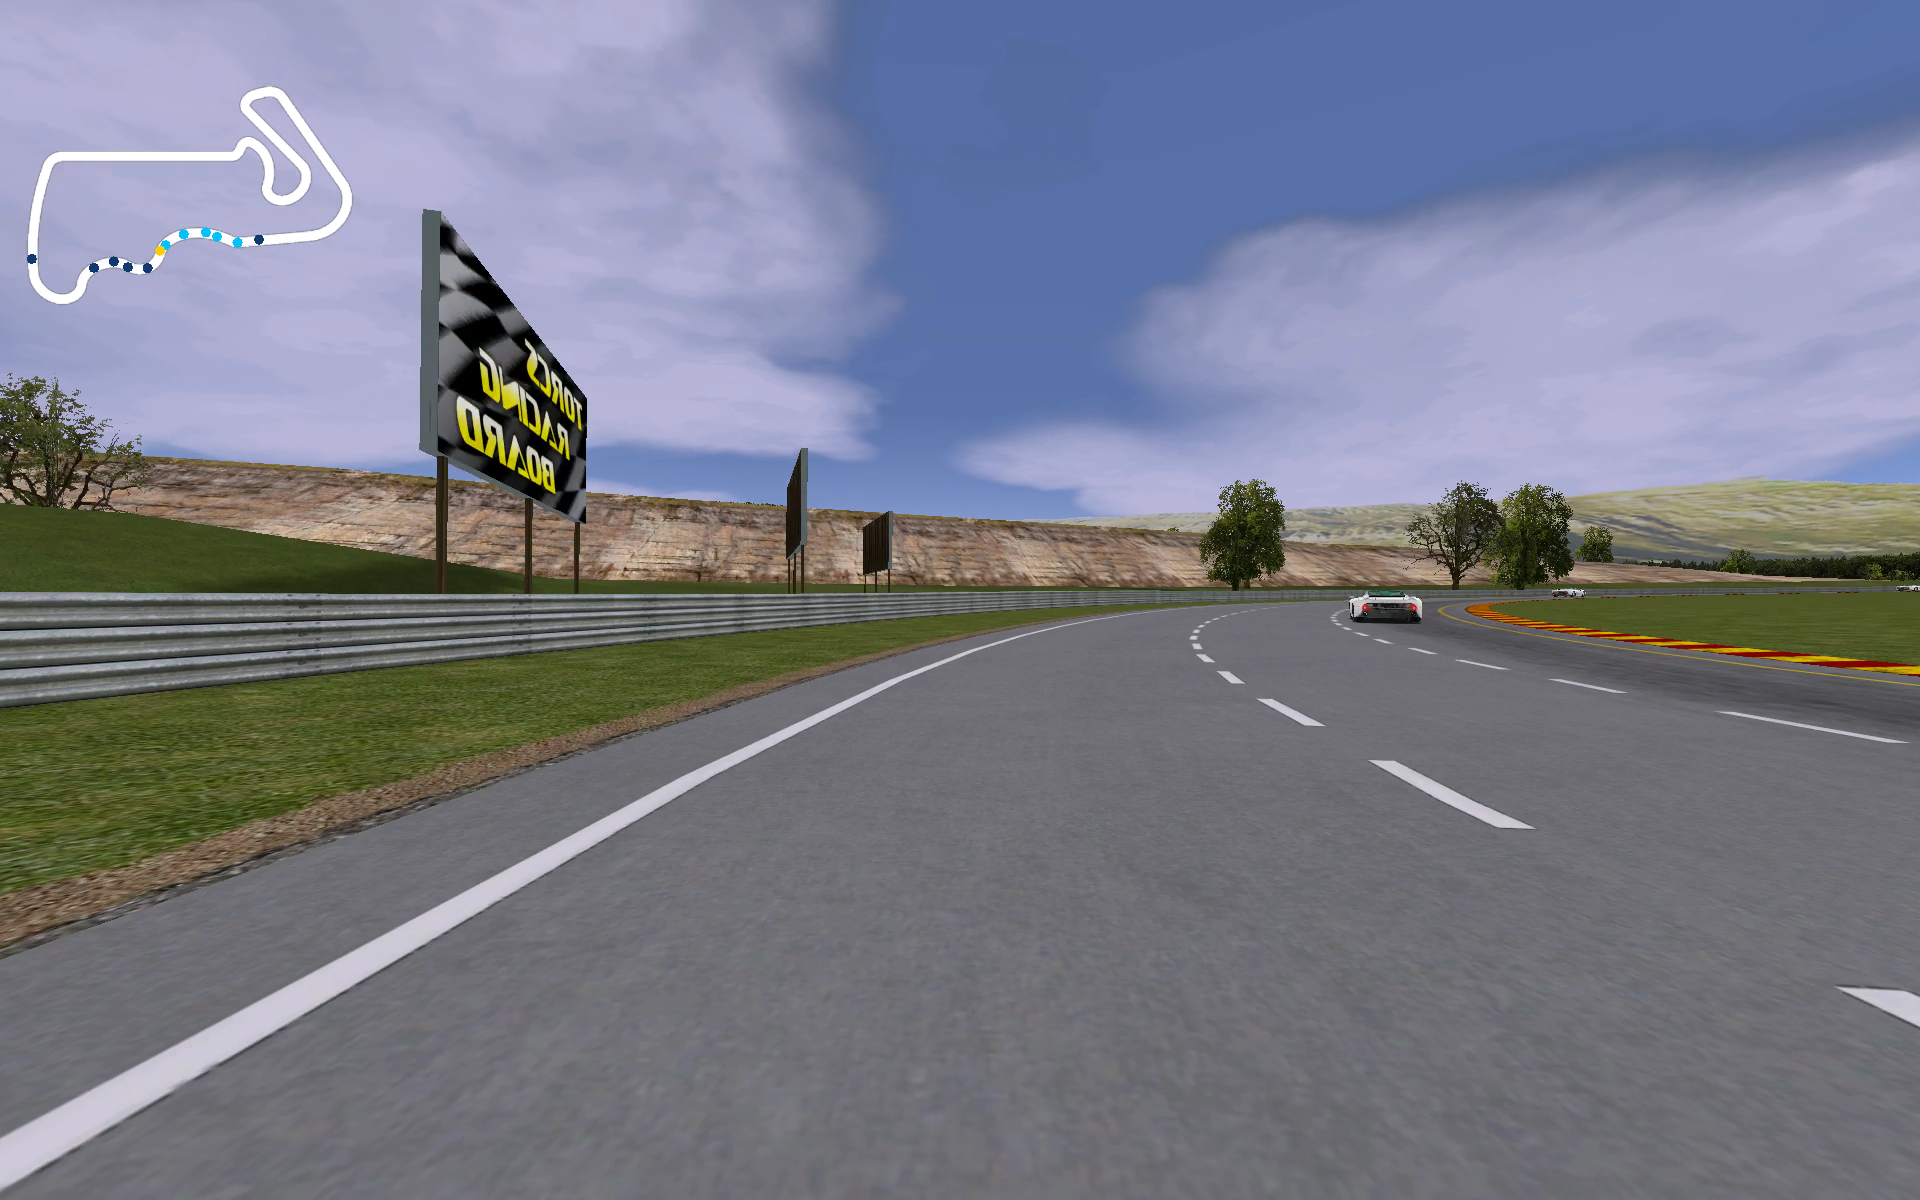car: (1345, 586, 1427, 624)
